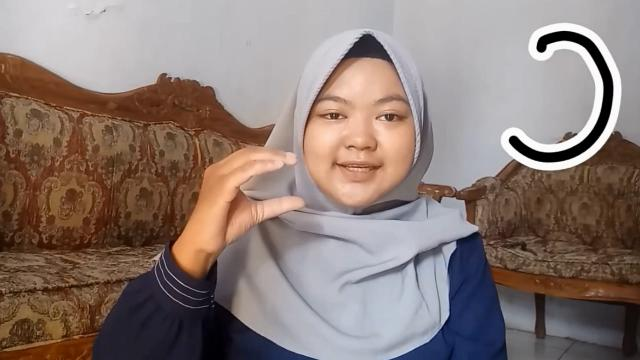C: (186, 144, 306, 256)
